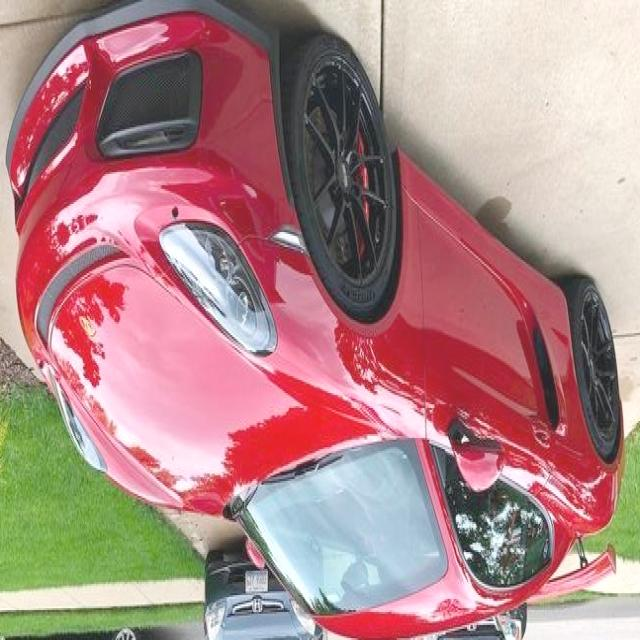red: (4, 36, 629, 640)
